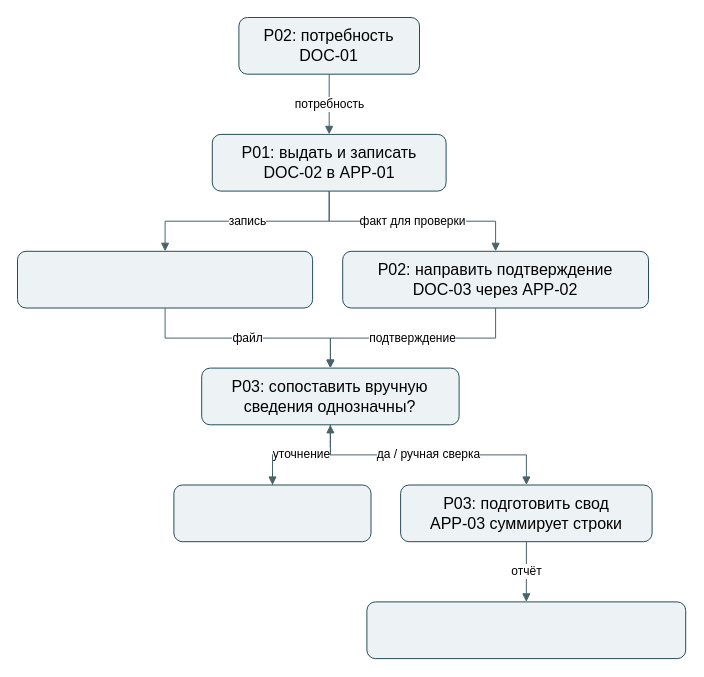
Some shapes in this 704 by 677 pixel diagram are drawn without their labels. Here are the shapes that lost their labels. From the top down, the centre of each, then its label:
At point (164, 279): "Р01: передать файл возможна повторная отправка".
At point (272, 513): "Р01 / Р02: уточнить спорную выдачу".
At point (526, 630): "Р04: получить DOC-04 полнота автоматически не видна".
